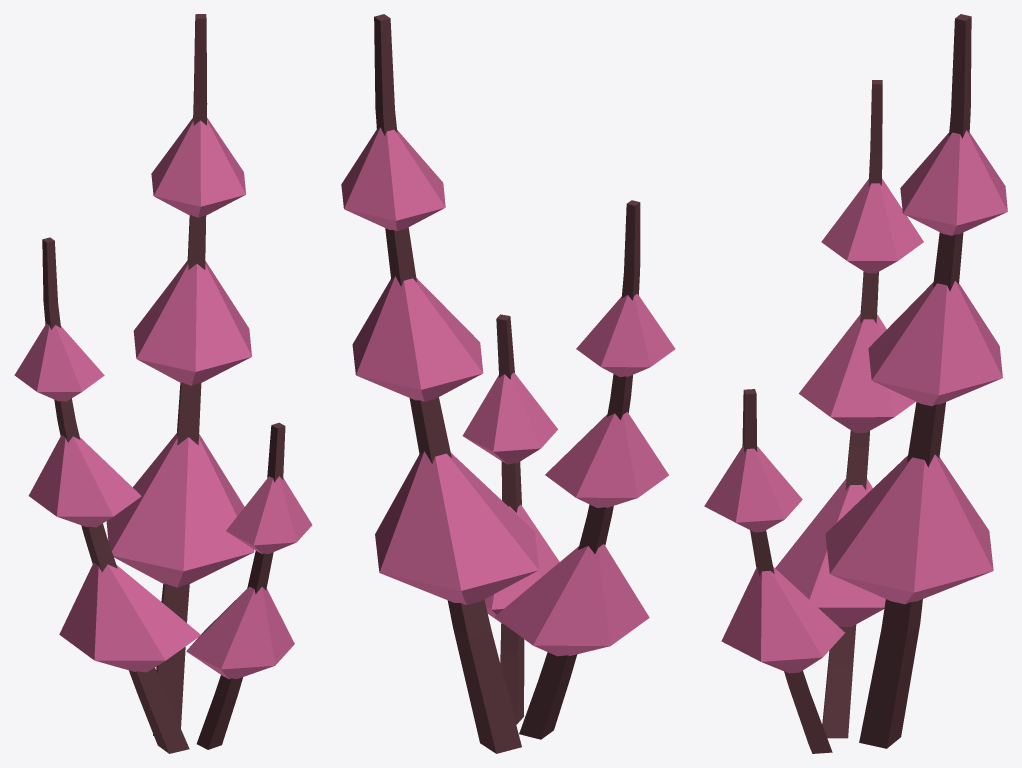
The model's file is scifi-plant-baggy-big.fbx.
The picture shows the model from 3 angles, left to right: view 1: azimuth 30°, elevation 25°; view 2: azimuth 150°, elevation 25°; view 3: azimuth 270°, elevation 25°; orthographic projection. The views are drawn at different scales.
Visible parts, largest first — view 1: scifi-plant-baggy-big; view 2: scifi-plant-baggy-big; view 3: scifi-plant-baggy-big.
Boxes of the visible parts, x1,y1,x2,y2 form: scifi-plant-baggy-big: (14, 14, 312, 753); scifi-plant-baggy-big: (341, 14, 675, 753); scifi-plant-baggy-big: (704, 14, 1007, 753).
Size of the model in its own units: 0.7615 by 1.91 by 0.6898.
